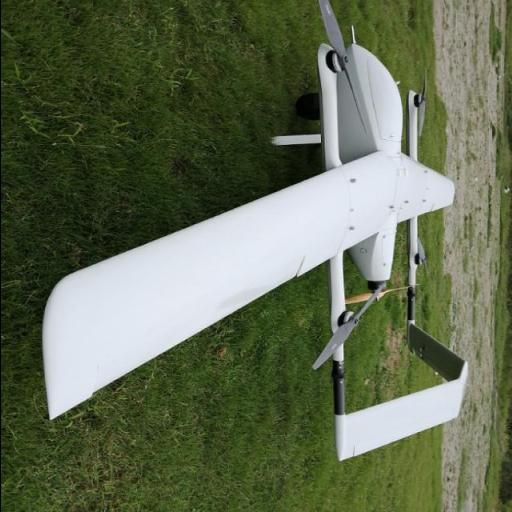uav: (44, 28, 474, 466)
